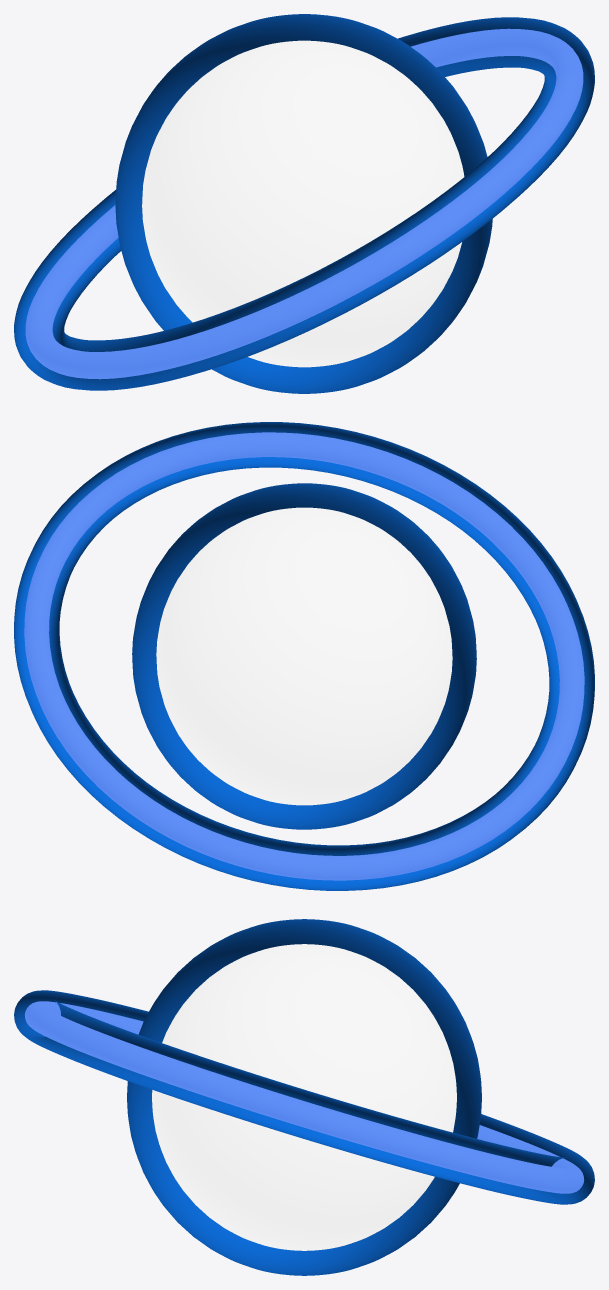
File: Planet3.glb
3 renders of one model, top to bottom at view 1: azimuth 30°, elevation 25°; view 2: azimuth 150°, elevation 25°; view 3: azimuth 270°, elevation 25°, orthographic. The views are drawn at different scales.
Parts seen in each view (by area): view 1: Sphere, Torus; view 2: Sphere, Torus; view 3: Sphere, Torus.
Part boxes in pixels (left/top/right/bottom): Sphere: left=115, top=14, right=492, bottom=393; Torus: left=14, top=17, right=594, bottom=390; Sphere: left=132, top=483, right=476, bottom=829; Torus: left=14, top=422, right=594, bottom=890; Sphere: left=127, top=919, right=481, bottom=1275; Torus: left=14, top=990, right=594, bottom=1204.
Size of the model in its own units: 3.19 by 2.01 by 3.25.
